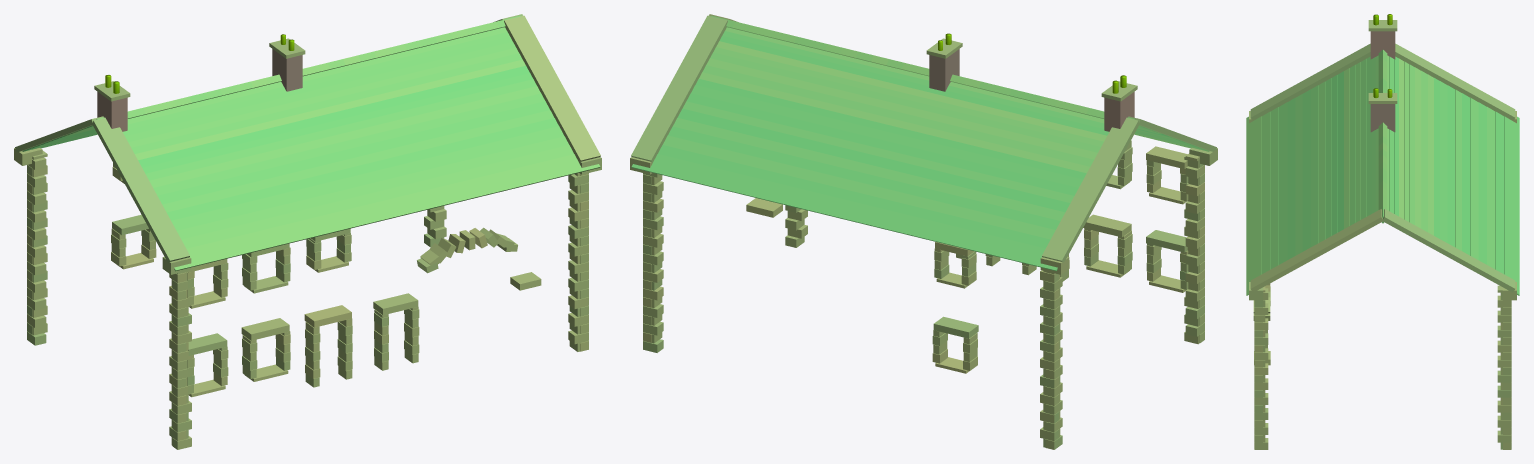
The model's file is SM_Bld_169_Stone.glb.
3 renders of one model, left to right at view 1: azimuth 30°, elevation 25°; view 2: azimuth 150°, elevation 25°; view 3: azimuth 270°, elevation 25°, orthographic. The views are drawn at different scales.
Parts seen in each view (by area): view 1: SM_Bld_169_Stone; view 2: SM_Bld_169_Stone; view 3: SM_Bld_169_Stone.
Part boxes in pixels (x1,y1,x2,y2): SM_Bld_169_Stone: (14, 14, 601, 449); SM_Bld_169_Stone: (630, 14, 1217, 449); SM_Bld_169_Stone: (1246, 14, 1519, 449).
Bounding box in the file's own units: 15.41 × 10.71 × 9.92.
